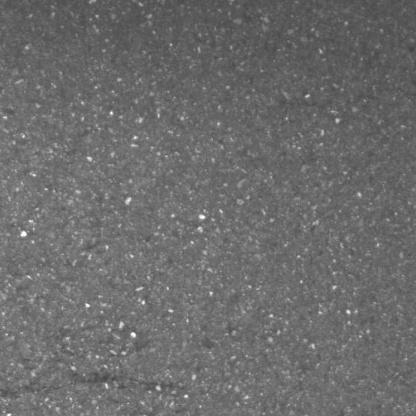Cracks: (0, 372, 188, 403)
